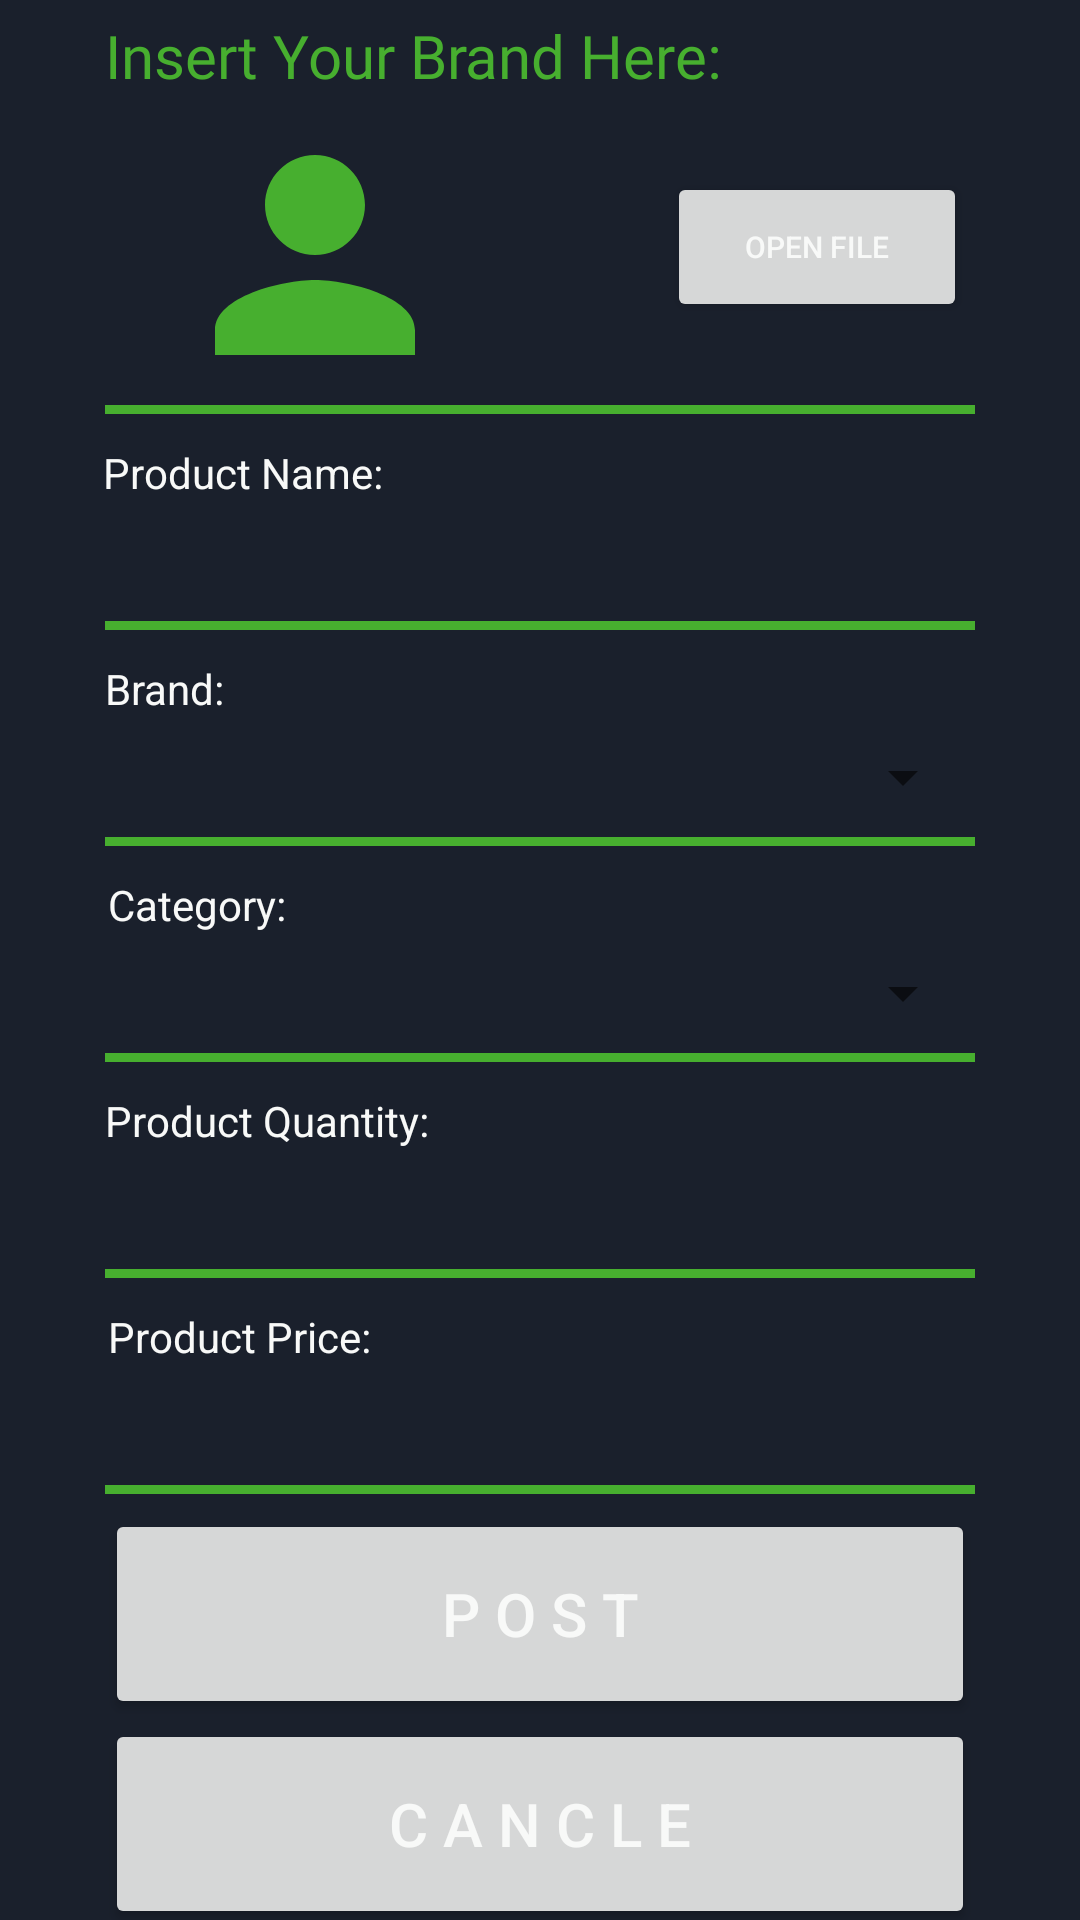

Named icons in this screenshot (1080 × 1920) and their bounding boxes, (x1, y1, x2, y2):
person: (215, 155, 415, 355)
